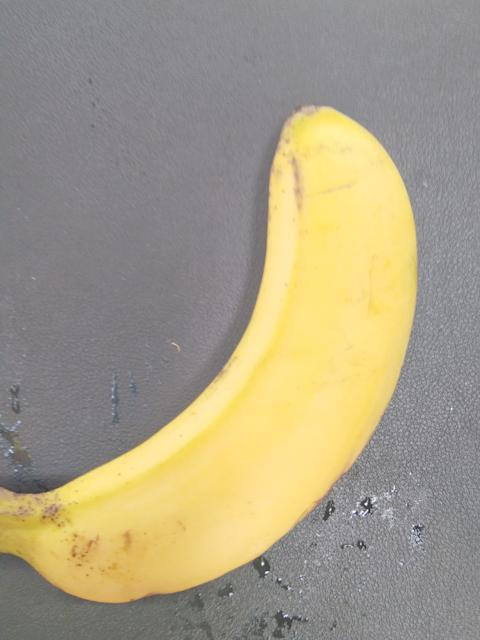freshripe: (0, 95, 444, 639)
